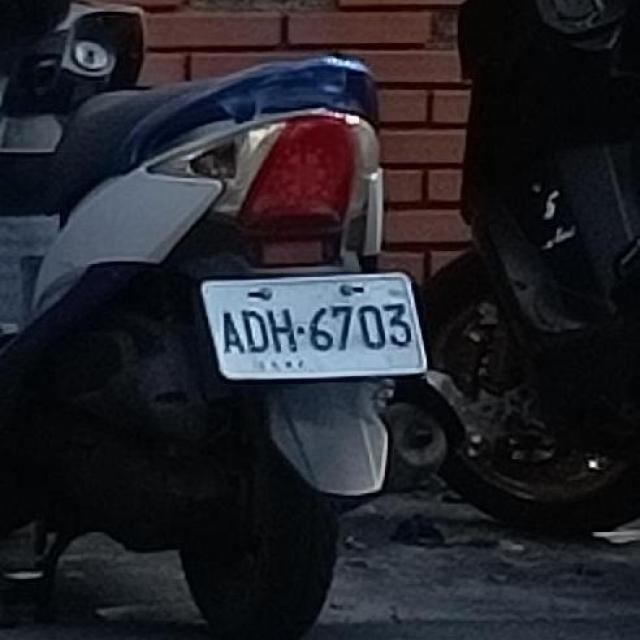W: (191, 261, 429, 393)
